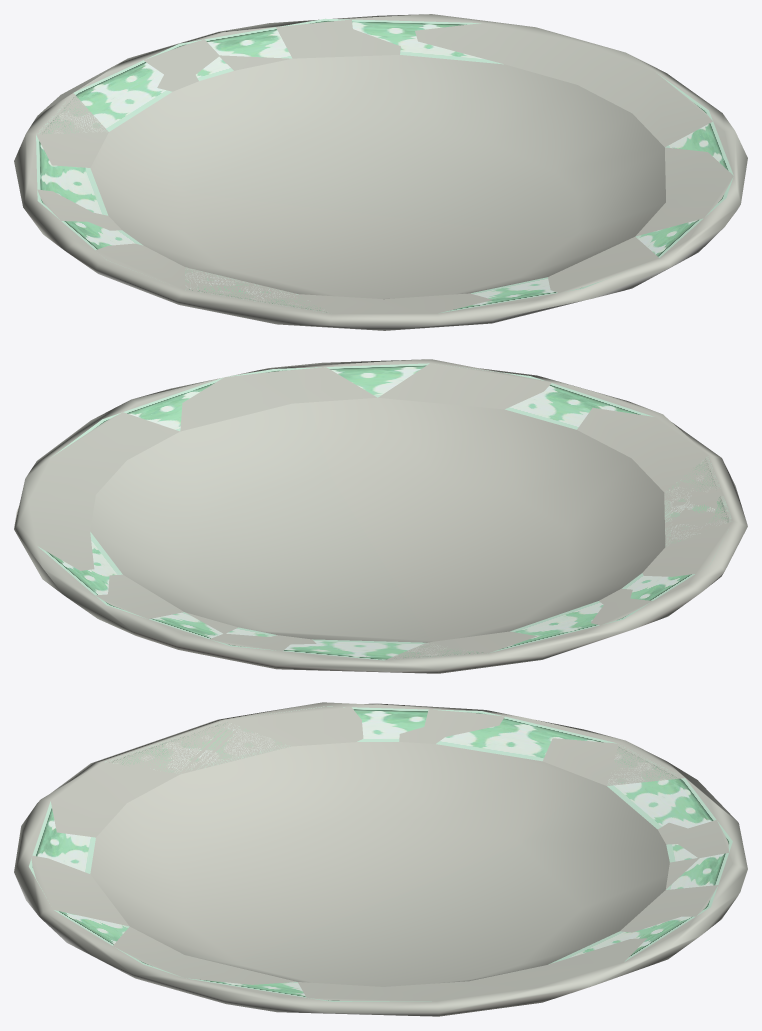
3 views of the same model, one above another, from view 1: azimuth 30°, elevation 25°; view 2: azimuth 150°, elevation 25°; view 3: azimuth 270°, elevation 25° (orthographic).
Parts seen in each view (by area): view 1: Bistro_Research_Interior_Paris_Plate_01B__3222 (×2); view 2: Bistro_Research_Interior_Paris_Plate_01B__3222 (×2); view 3: Bistro_Research_Interior_Paris_Plate_01B__3222 (×2).
Boxes of the visible parts, bbox=[...] form: Bistro_Research_Interior_Paris_Plate_01B__3222 (×2): bbox=[14, 14, 747, 330]; Bistro_Research_Interior_Paris_Plate_01B__3222 (×2): bbox=[14, 359, 747, 673]; Bistro_Research_Interior_Paris_Plate_01B__3222 (×2): bbox=[14, 702, 747, 1016].
Size of the model in its own units: 0.2275 by 0.026 by 0.2279.
Materials: 2 (2 with a texture image).
